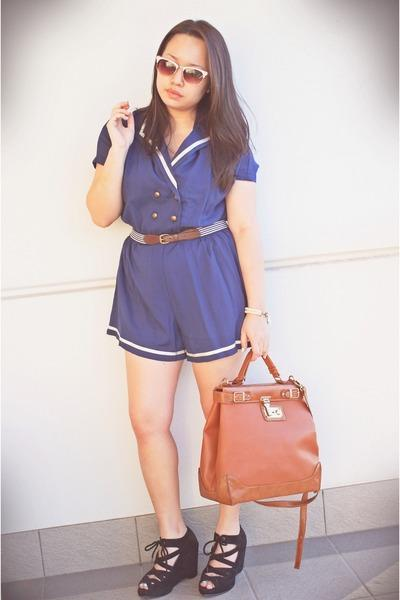bag: (198, 379, 321, 506)
dress: (92, 123, 258, 362)
shoe: (138, 525, 246, 599)
sunglass: (152, 60, 213, 97)
